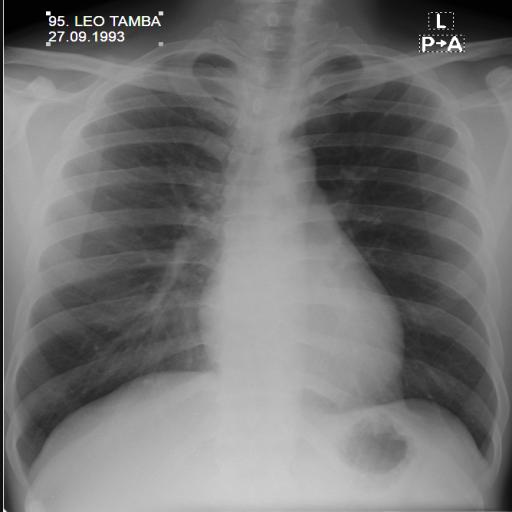normal: (9, 24, 512, 491)
